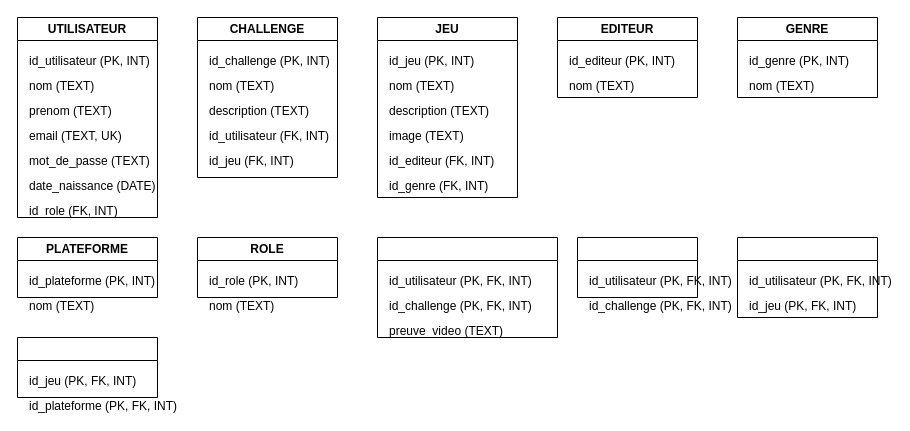
This 910x431 diagram has some shape labels left out. The box of each missing label's shape, as (x1, y1, x2, y2) in pixels:
AIME: (576, 236, 698, 298)
OPERE: (16, 336, 158, 398)
PARTICIPE: (376, 236, 558, 338)
PREFERE: (736, 236, 878, 318)
